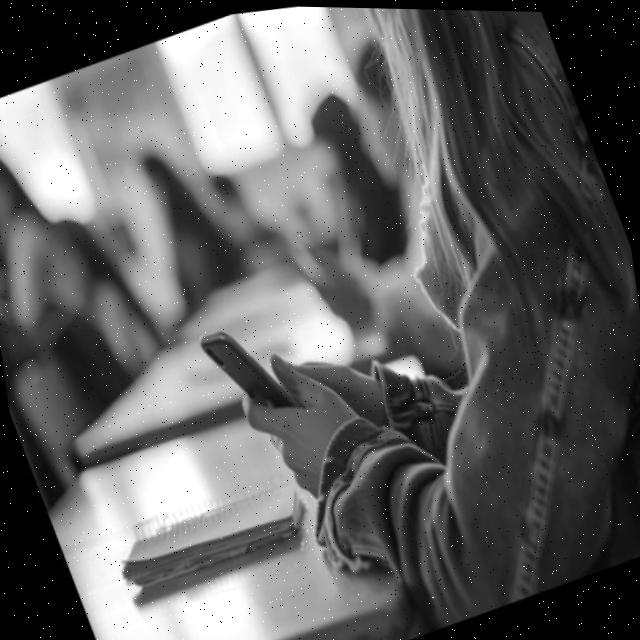phone: (195, 305, 309, 438)
